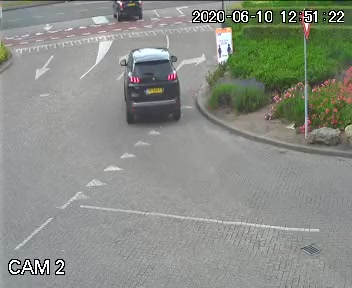car: (115, 41, 183, 133), (109, 0, 143, 25)
